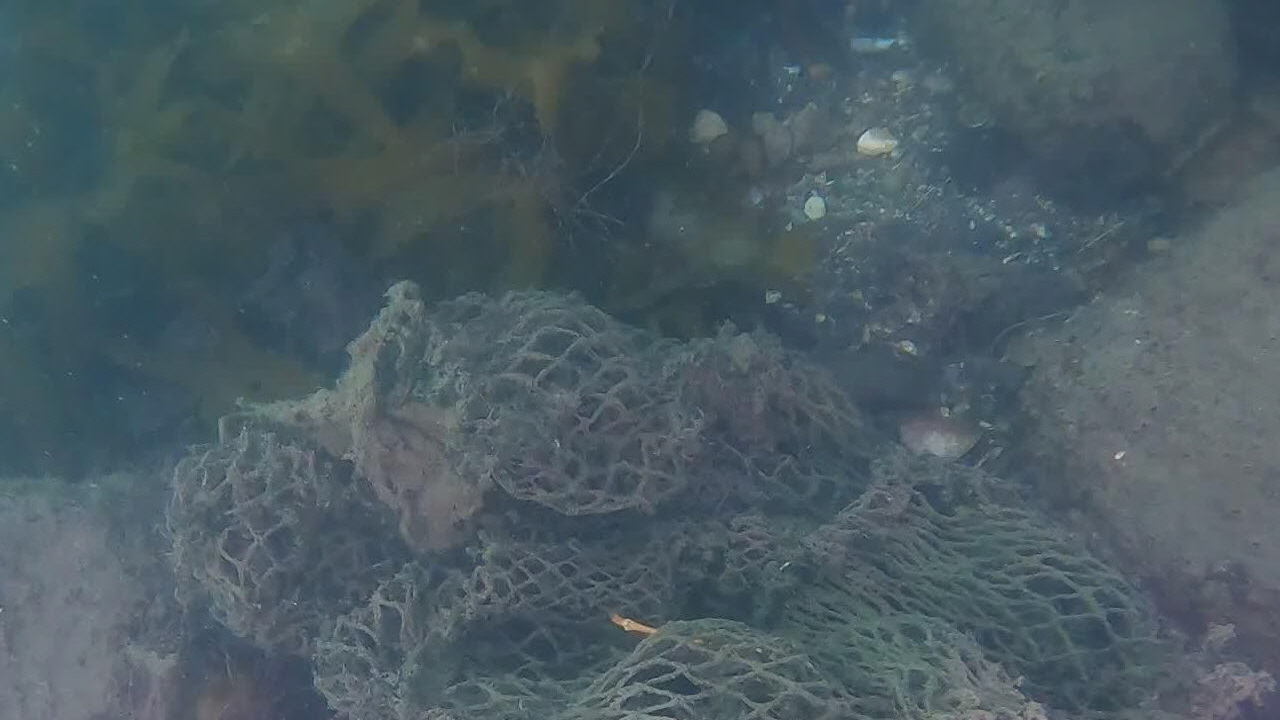fish net: (163, 282, 1269, 720)
